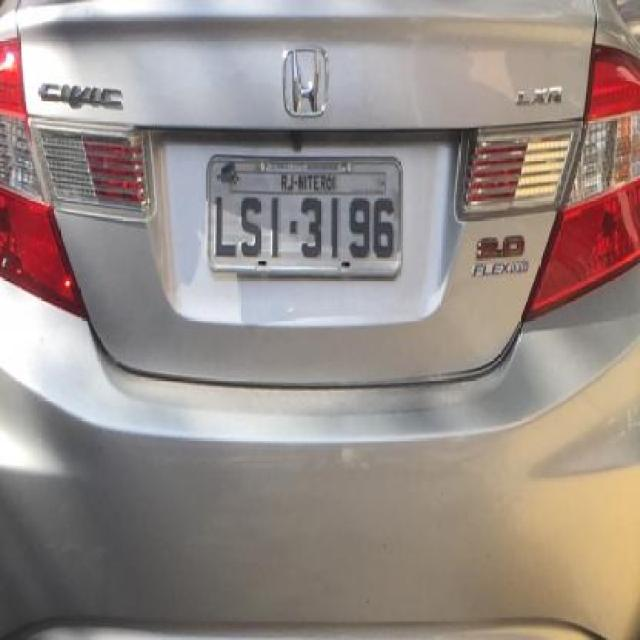old_plate: (196, 147, 412, 286)
